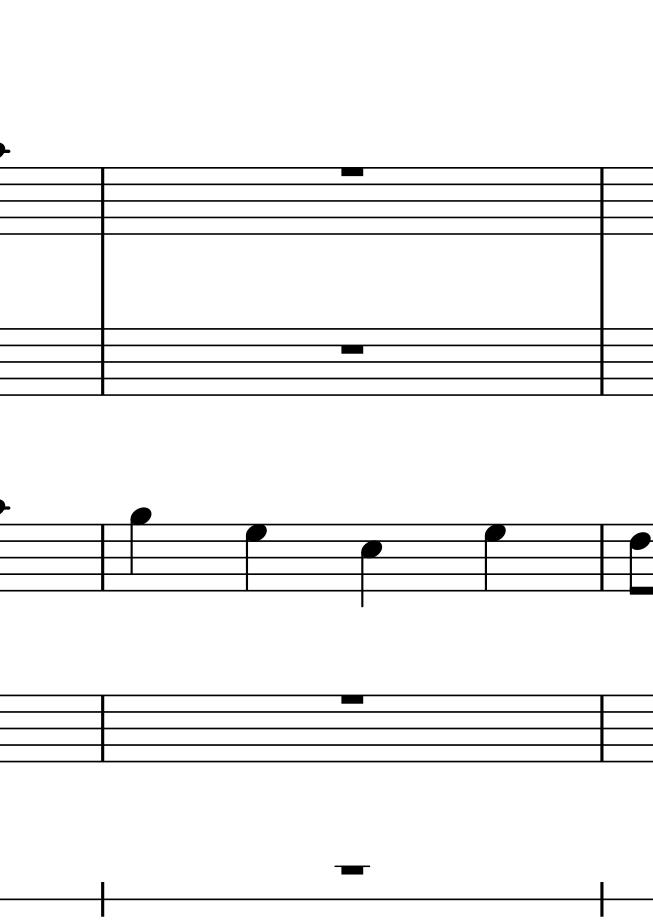4_5: (358, 522, 385, 610)
4_7: (243, 522, 269, 592), (482, 523, 508, 593)
4_9: (128, 506, 153, 593)
8_6: (626, 523, 652, 598)
Rests1: (336, 690, 368, 709), (336, 861, 367, 880), (336, 163, 368, 181), (337, 339, 367, 358)
Single_barline: (94, 168, 111, 233), (94, 525, 111, 589), (594, 526, 610, 591), (594, 168, 610, 232), (95, 329, 111, 393), (594, 329, 609, 393), (594, 696, 609, 760), (95, 697, 110, 760)
